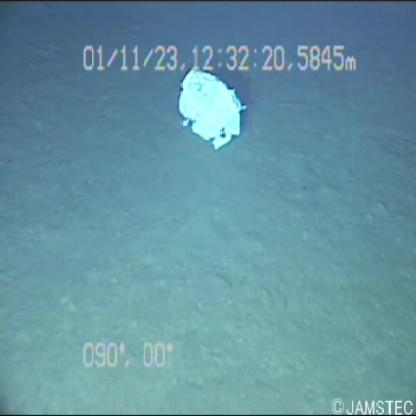Rác: (176, 66, 249, 155)
